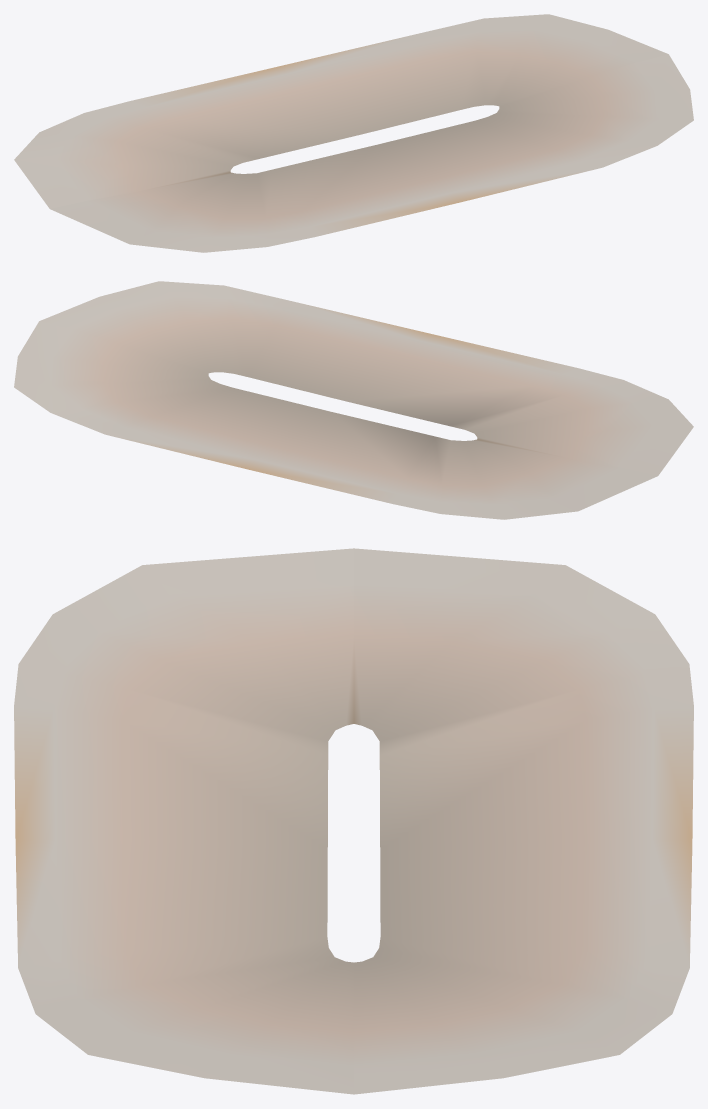
File: Quicksand.fbx
3 views of the same model, one above another, from view 1: azimuth 30°, elevation 25°; view 2: azimuth 150°, elevation 25°; view 3: azimuth 270°, elevation 25° (orthographic). The views are drawn at different scales.
Parts seen in each view (by area): view 1: Quicksand; view 2: Quicksand; view 3: Quicksand.
Part boxes in pixels (box(x1,y1,x2,y2)): Quicksand: box(14, 14, 693, 252); Quicksand: box(14, 281, 693, 519); Quicksand: box(14, 548, 693, 1094).
Size of the model in its own units: 2680 by 50.9 by 1392.
